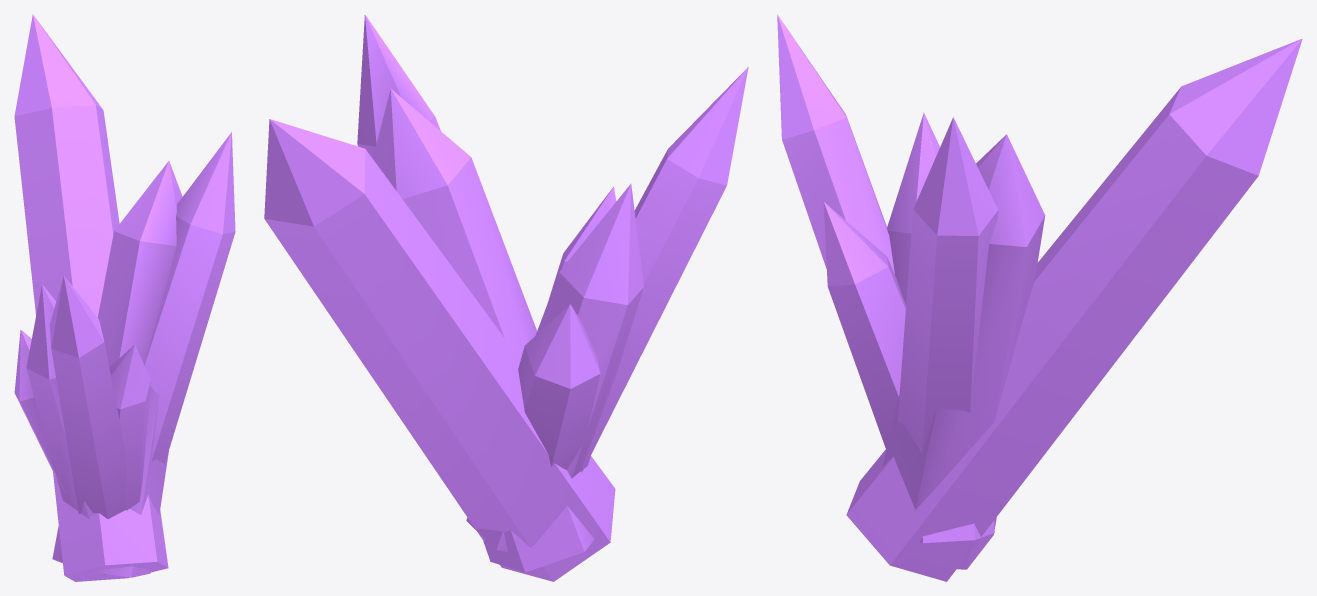
File: obj_deco_cristales_3.glb
3 renders of one model, left to right at view 1: azimuth 30°, elevation 25°; view 2: azimuth 150°, elevation 25°; view 3: azimuth 270°, elevation 25°, orthographic. The views are drawn at different scales.
Parts seen in each view (by area): view 1: propforge-libre-deco_cristales; view 2: propforge-libre-deco_cristales; view 3: propforge-libre-deco_cristales.
Boxes of the visible parts, x1,y1,x2,y2 form: propforge-libre-deco_cristales: (14,14,235,581); propforge-libre-deco_cristales: (264,14,748,581); propforge-libre-deco_cristales: (777,14,1302,581).
Size of the model in its own units: 0.3531 by 0.6398 by 0.5331.
